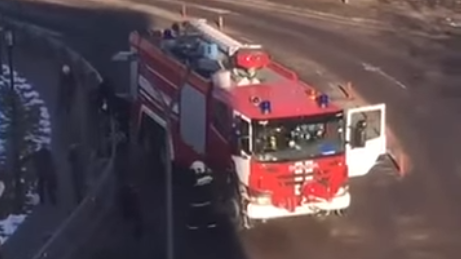fire fighting vehicle: (125, 13, 387, 223)
